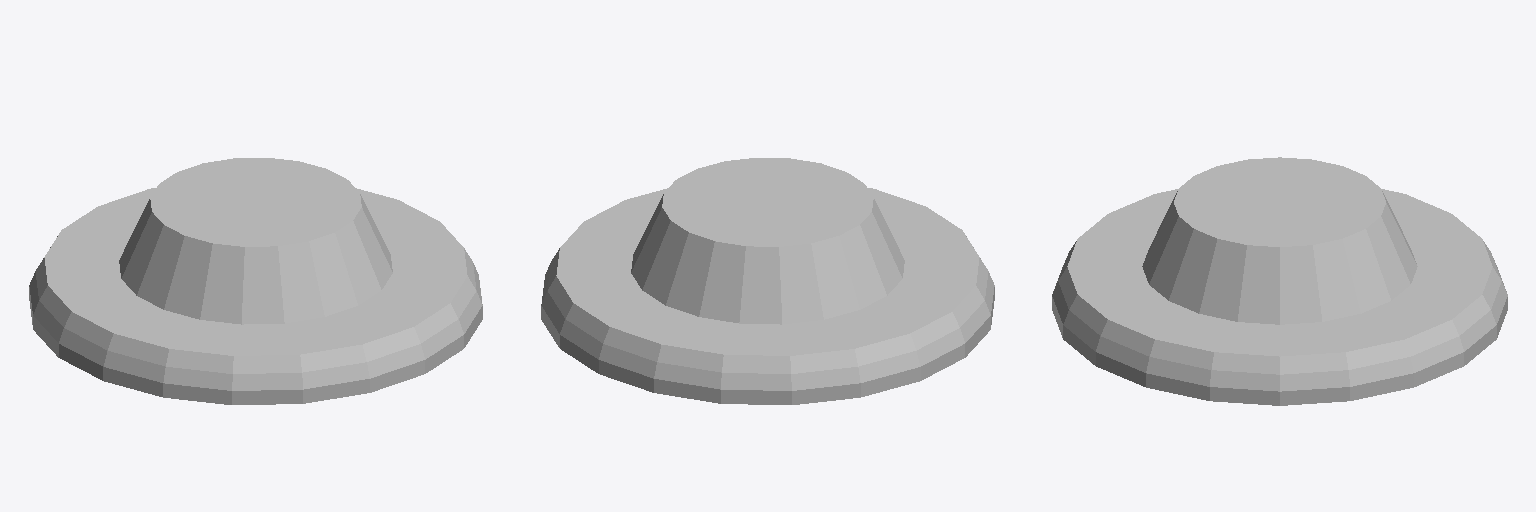
The model's file is mans hat.obj.
3 renders of one model, left to right at view 1: azimuth 30°, elevation 25°; view 2: azimuth 150°, elevation 25°; view 3: azimuth 270°, elevation 25°, orthographic.
Parts seen in each view (by area): view 1: stage2:pCylinder1928 stage2:polySurface2016 polySurface51 stage2; view 2: stage2:pCylinder1928 stage2:polySurface2016 polySurface51 stage2; view 3: stage2:pCylinder1928 stage2:polySurface2016 polySurface51 stage2.
Boxes of the visible parts, x1,y1,x2,y2 form: stage2:pCylinder1928 stage2:polySurface2016 polySurface51 stage2: [29, 158, 482, 404]; stage2:pCylinder1928 stage2:polySurface2016 polySurface51 stage2: [541, 158, 994, 404]; stage2:pCylinder1928 stage2:polySurface2016 polySurface51 stage2: [1052, 157, 1507, 405].
Bounding box in the file's own units: 3.15 × 0.8181 × 3.15.